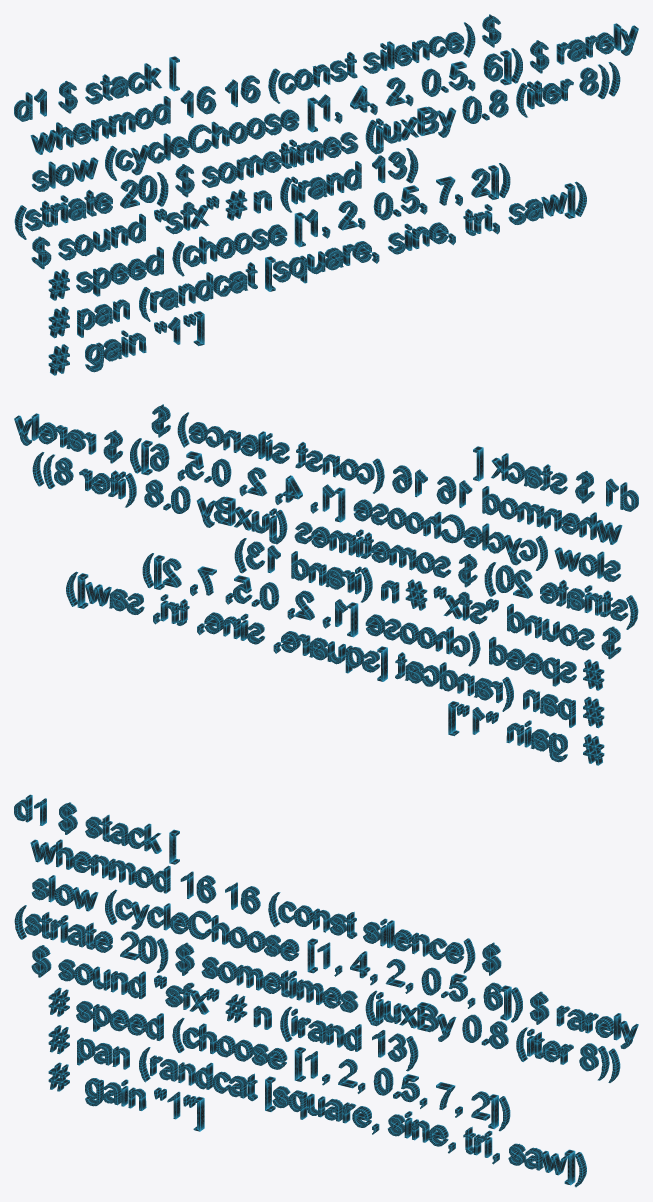
The model's file is web-transformed.glb.
3 views of the same model, one above another, from view 1: azimuth 30°, elevation 25°; view 2: azimuth 150°, elevation 25°; view 3: azimuth 330°, elevation 25° (orthographic).
Parts seen in each view (by area): view 1: Object_2; view 2: Object_2; view 3: Object_2.
Part boxes in pixels (<box>): Object_2: <box>14,14,638,375</box>; Object_2: <box>14,404,638,765</box>; Object_2: <box>14,794,638,1187</box>.
Bounding box in the file's own units: 8.83 × 4 × 0.1122.
Materials: 1 (1 with a texture image).
